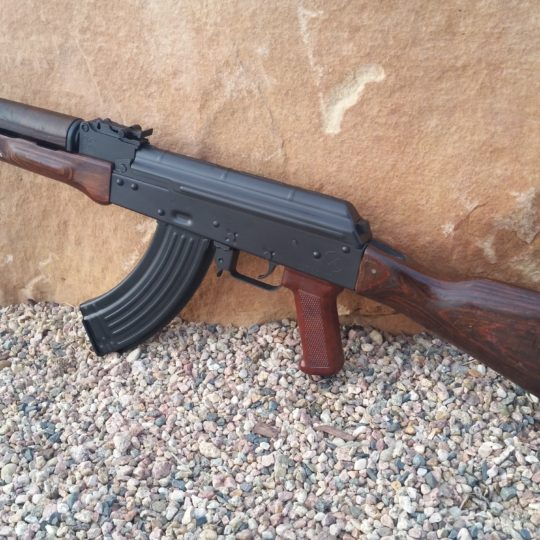ak47: (2, 83, 539, 399)
